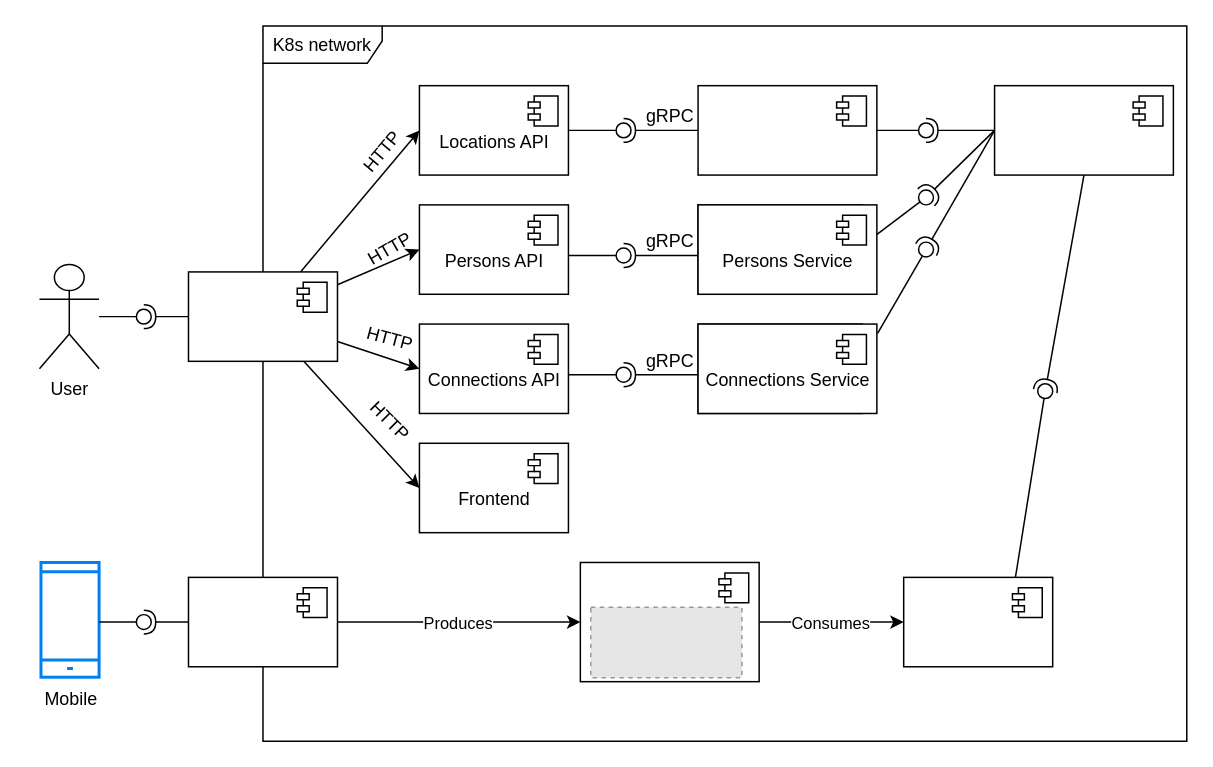
Image size: 1213x767. Some labels were removed from this diagram. Grey dashed boxes stand in for pictures. Here are the shapes that lost their labels. From the top down, the centre of each, then its label:
At [787,129]: "Locations Service".
At [1083,129]: "Postgres DB".
At [262,315]: "Ingress".
At [262,621]: "Location Ingester".
At [977,621]: "Location Consumer".
